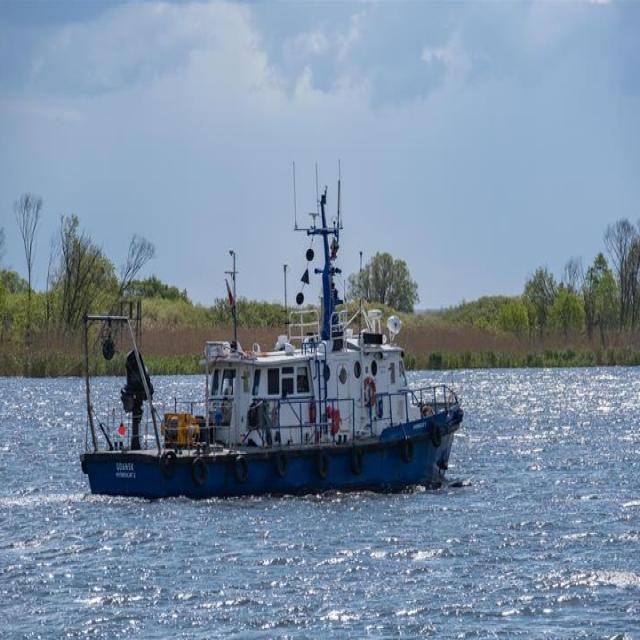fishing boat: (77, 241, 459, 496)
